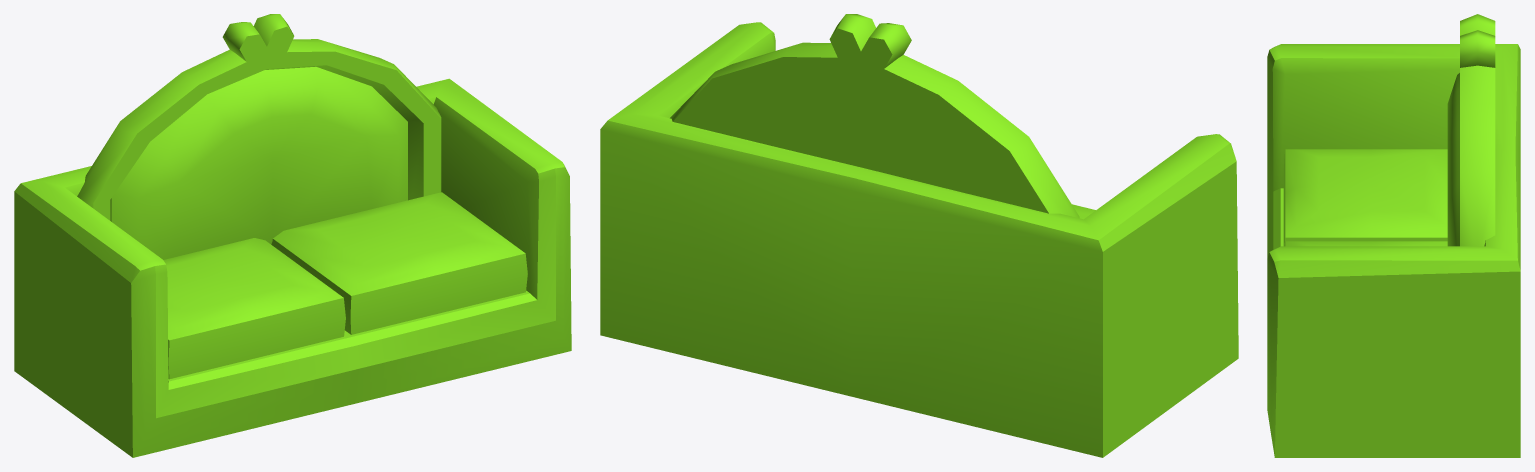
Rendered from SM_EastCouch_B.fbx.
3 views of the same model, side by side, from view 1: azimuth 30°, elevation 25°; view 2: azimuth 150°, elevation 25°; view 3: azimuth 270°, elevation 25° (orthographic). The views are drawn at different scales.
Visible parts, largest first — view 1: SM_EastCouch_B; view 2: SM_EastCouch_B; view 3: SM_EastCouch_B.
Boxes of the visible parts, x1,y1,x2,y2 form: SM_EastCouch_B: (14,14,571,457); SM_EastCouch_B: (600,14,1238,457); SM_EastCouch_B: (1267,14,1520,457).
Bounding box in the file's own units: 305 × 208 × 147.
